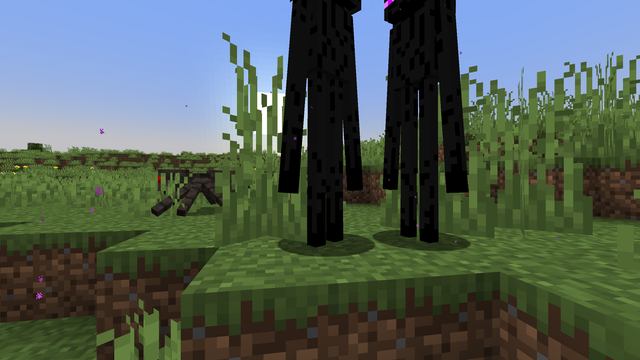araignees: (142, 163, 239, 216)
endermens: (380, 11, 463, 246), (293, 0, 364, 251)
